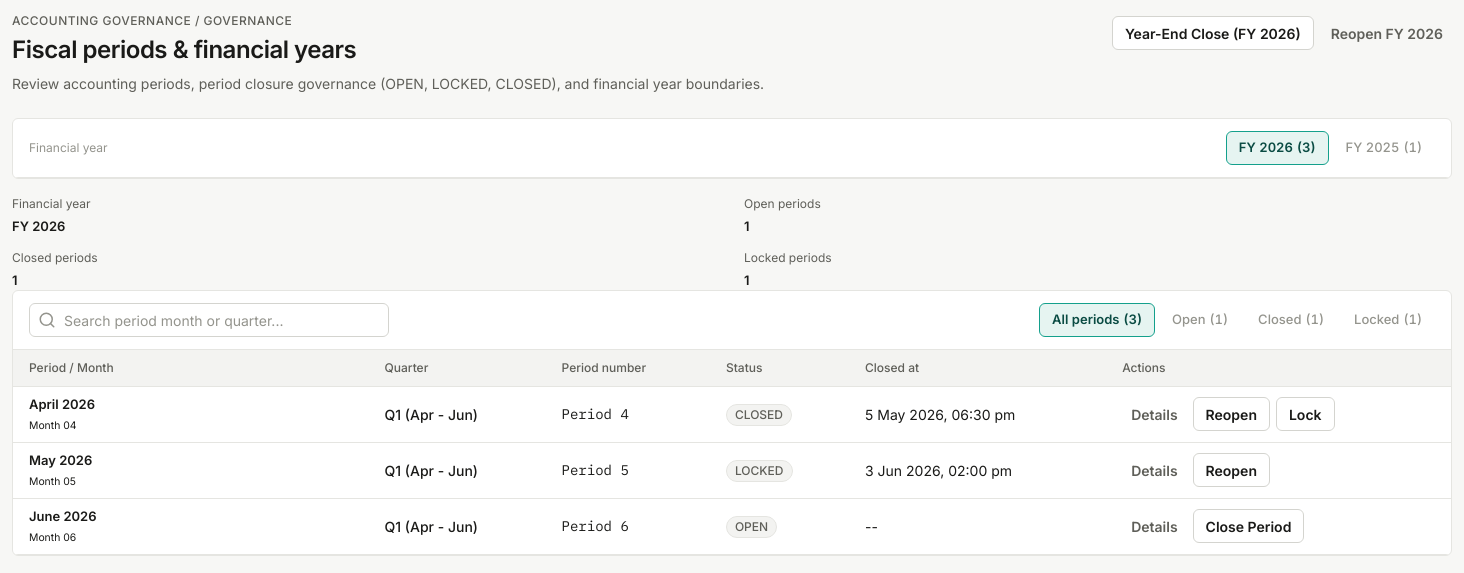
it: FiscalPeriodsPage › switches financial year using year picker tabs
This screenshot has width=1464, height=573.
Expected: the text "April 2026" is shown, [29, 396, 95, 412]
// Switch to FY 2025
Click the tab "FY 2025 (1)". click: (1384, 148)
box: [1332, 131, 1435, 165]
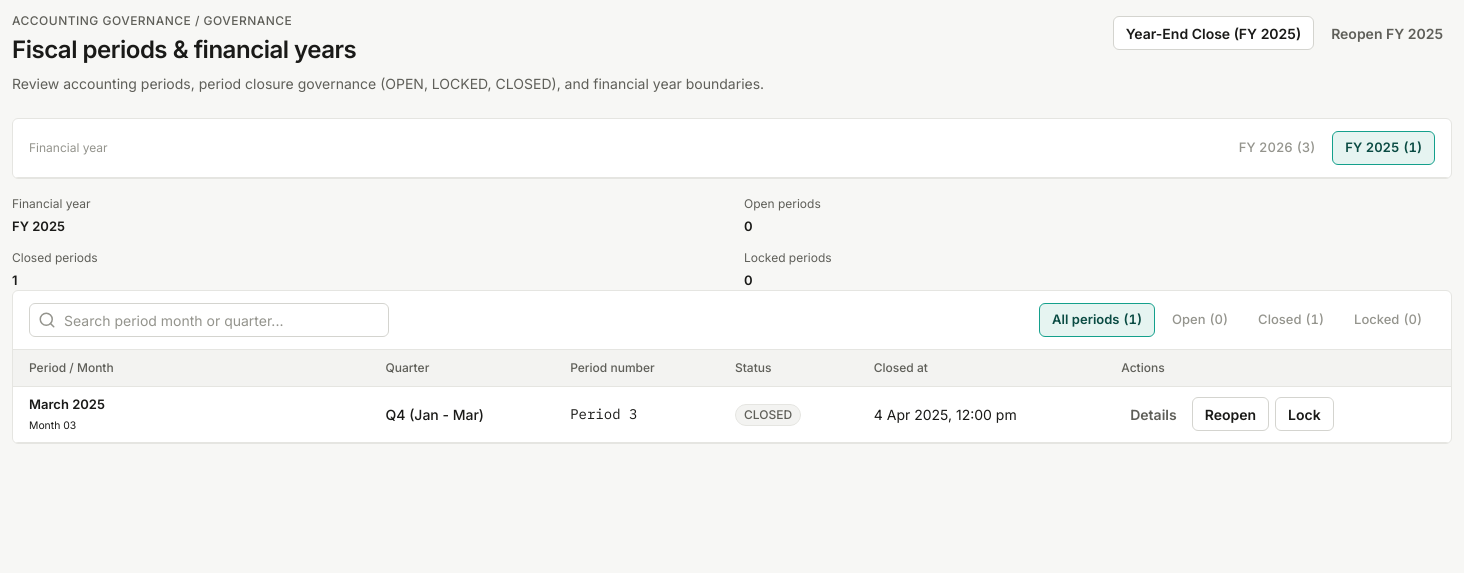
Expected: the text "March 2025" is shown, [29, 396, 105, 412]
Expected: the text "April 2026" is gone
